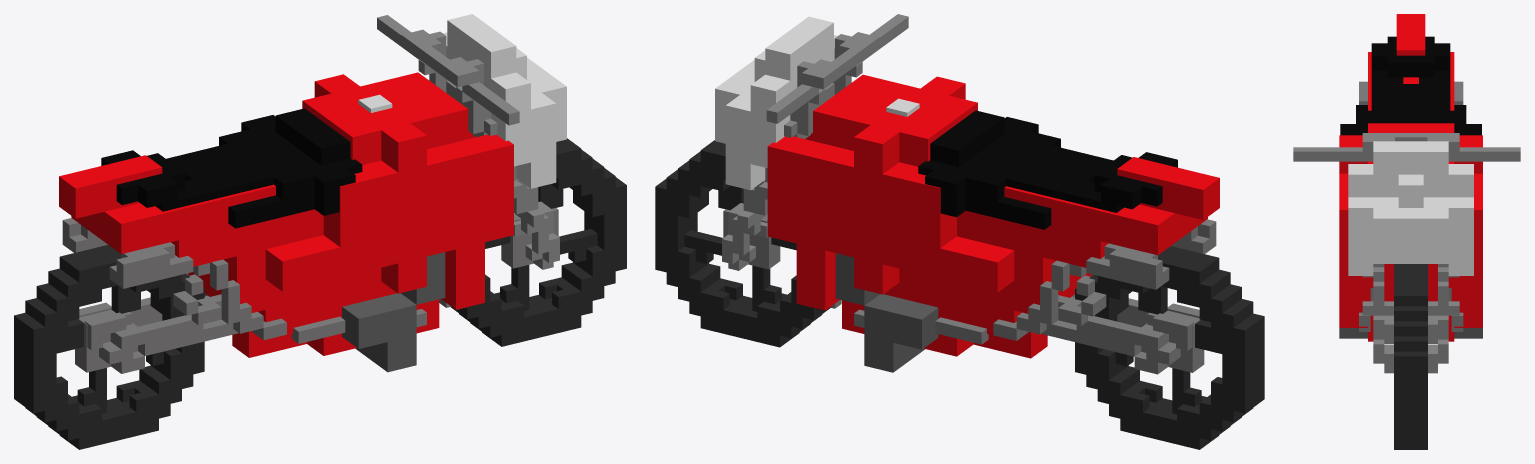
The model's file is moto_rouge.fbx.
3 renders of one model, left to right at view 1: azimuth 30°, elevation 25°; view 2: azimuth 150°, elevation 25°; view 3: azimuth 270°, elevation 25°, orthographic. The views are drawn at different scales.
Visible parts, largest first — view 1: mod_structure_moto, mod_roue_arriere_moto, mod_roue_avant_moto; view 2: mod_structure_moto, mod_roue_arriere_moto, mod_roue_avant_moto; view 3: mod_structure_moto, mod_roue_avant_moto.
Part boxes in pixels (x1,y1,x2,y2): mod_structure_moto: (59, 14, 566, 373); mod_roue_arriere_moto: (14, 245, 204, 449); mod_roue_avant_moto: (451, 138, 626, 346); mod_structure_moto: (715, 14, 1219, 374); mod_roue_arriere_moto: (1075, 246, 1264, 449); mod_roue_avant_moto: (655, 140, 830, 347); mod_structure_moto: (1293, 14, 1520, 373); mod_roue_avant_moto: (1394, 264, 1427, 449).
Size of the model in its own units: 183 by 91.12 by 70.57.
